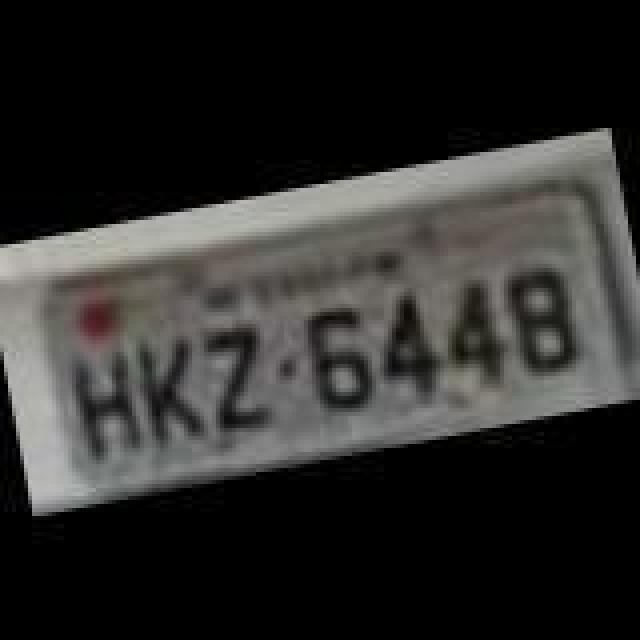4: (364, 278, 452, 410), (438, 270, 522, 402)
6: (292, 298, 380, 422)
8: (502, 256, 586, 384)
H: (58, 336, 150, 472)
K: (122, 326, 214, 458)
Z: (192, 316, 280, 444)
